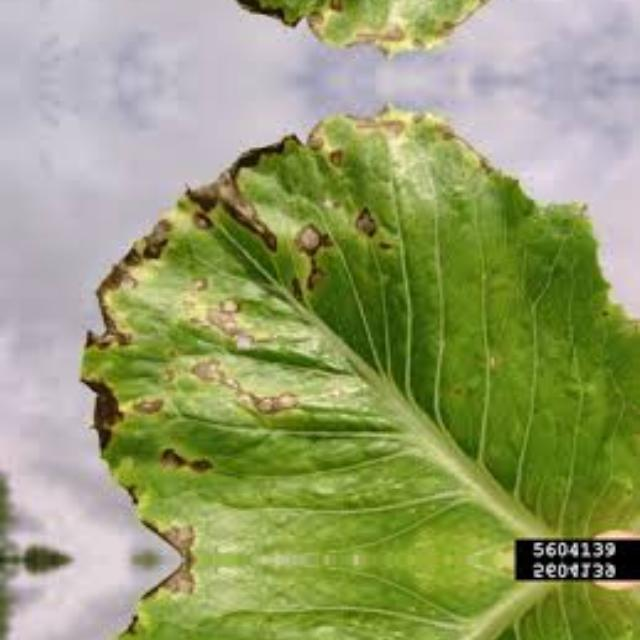Lettuce - Anthracnose: (80, 106, 640, 560), (80, 559, 639, 640), (80, 0, 639, 53)
